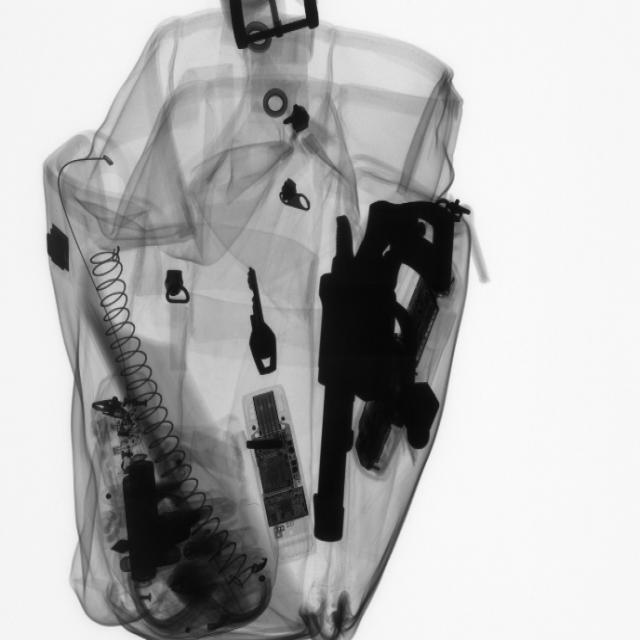GUN: (315, 199, 445, 559)
